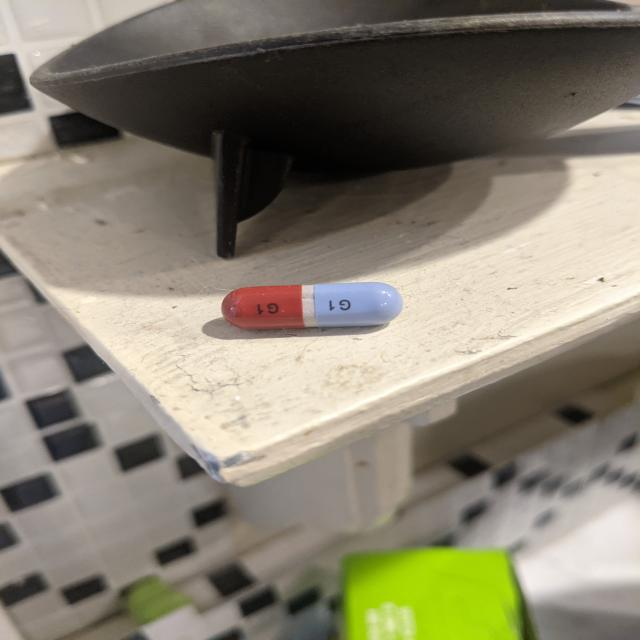non-organic waste: (220, 280, 405, 332)
